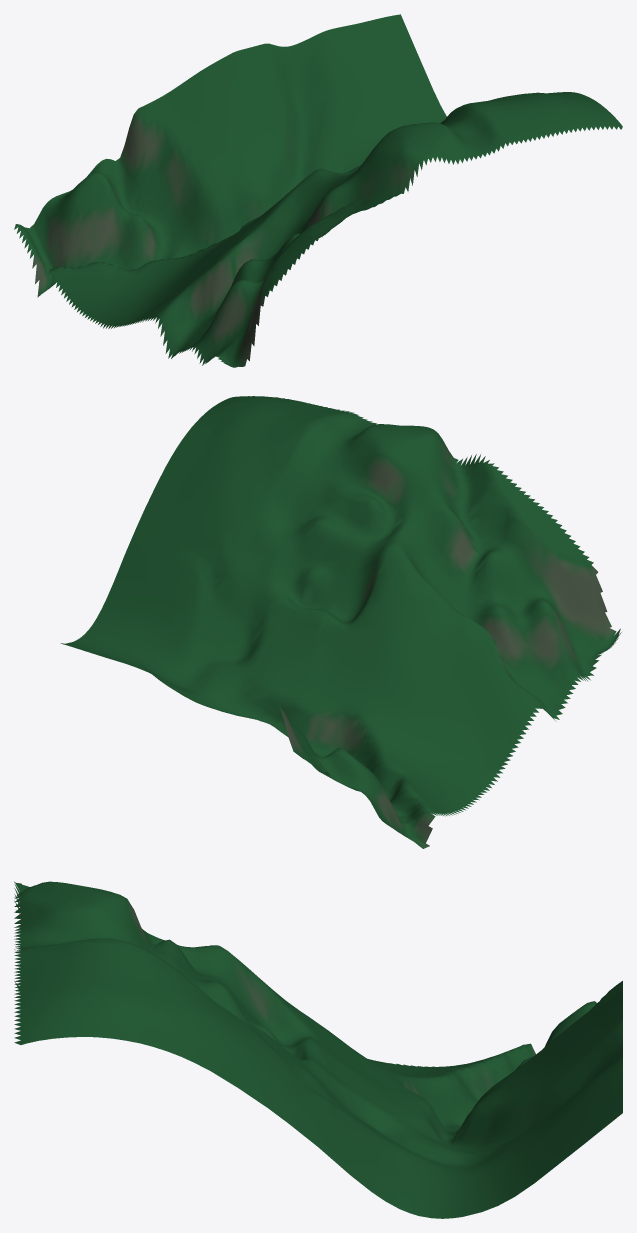
The model's file is payo_land_xm2_y1_lod1.glb.
3 renders of one model, top to bottom at view 1: azimuth 30°, elevation 25°; view 2: azimuth 150°, elevation 25°; view 3: azimuth 270°, elevation 25°, orthographic. The views are drawn at different scales.
Visible parts, largest first — view 1: payo_land_xm2_y1; view 2: payo_land_xm2_y1; view 3: payo_land_xm2_y1.
Boxes of the visible parts, x1,y1,x2,y2 form: payo_land_xm2_y1: [14, 14, 622, 367]; payo_land_xm2_y1: [60, 396, 621, 848]; payo_land_xm2_y1: [14, 881, 622, 1218].
Size of the model in its own units: 258 by 154 by 258.
